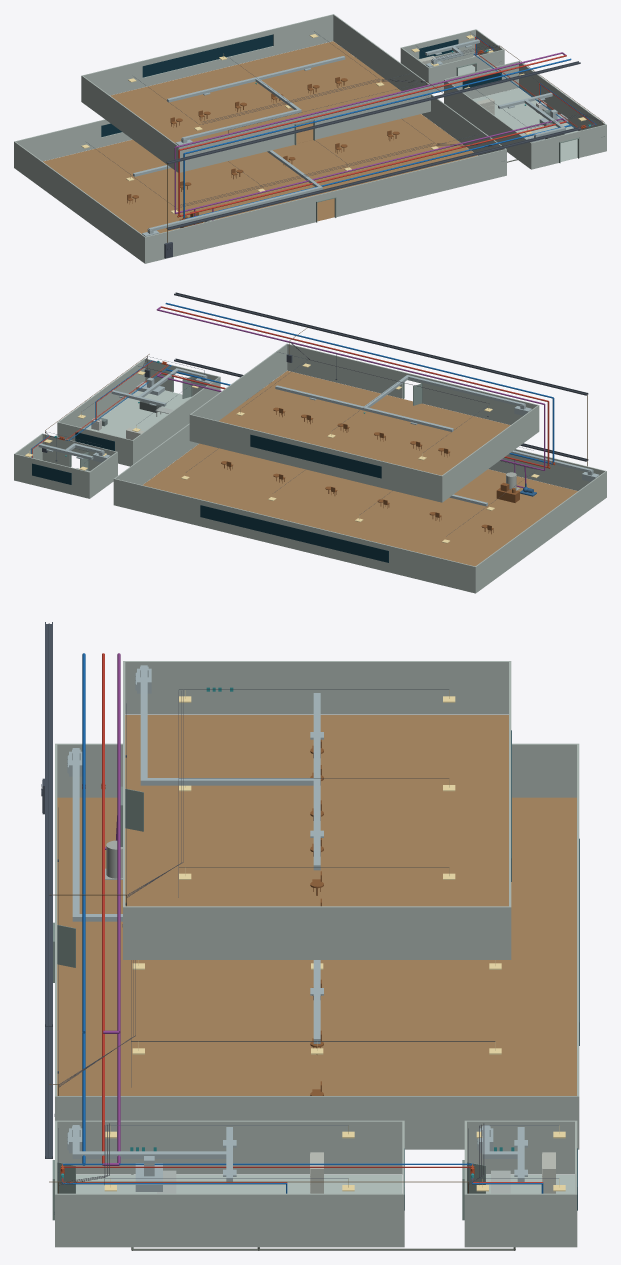
Rendered from DINING_W.glb.
3 views of the same model, one above another, from view 1: azimuth 30°, elevation 25°; view 2: azimuth 150°, elevation 25°; view 3: azimuth 270°, elevation 25° (orthographic). The views are drawn at different scales.
Parts seen in each view (by area): view 1: V4_DINING_W_R01_FLOOR_ZONE, V4_DINING_W_R01_WALLS, V4_DINING_W_R04_WALLS, V4_DINING_W_R04_FLOOR_ZONE, V4_DINING_W_R02_WALLS, V4_DINING_W_R03_WALLS, V4_DINING_W_R02_FLOOR_ZONE, V4_DINING_W_MAIN_HOT_RETURN, V4_DINING_W_MAIN_HOT, V4_DINING_W_R04_AHU, V4_DINING_W_MAIN_COLD, V4_DINING_W_TRAY1 (+5 smaller); view 2: V4_DINING_W_R01_FLOOR_ZONE, V4_DINING_W_R04_WALLS, V4_DINING_W_R01_WALLS, V4_DINING_W_R04_FLOOR_ZONE, V4_DINING_W_R02_WALLS, V4_DINING_W_R03_WALLS, V4_DINING_W_R01_ROOM_GLAZING, V4_DINING_W_R02_FLOOR_ZONE, V4_DINING_W_R04_AHU, V4_DINING_W_R04_ROOM_GLAZING, V4_DINING_W_TRAY1, V4_DINING_W_MAIN_COLD (+8 smaller); view 3: V4_DINING_W_R01_FLOOR_ZONE, V4_DINING_W_R04_FLOOR_ZONE, V4_DINING_W_R04_WALLS, V4_DINING_W_R02_WALLS, V4_DINING_W_R01_WALLS, V4_DINING_W_R03_WALLS, V4_DINING_W_R02_FLOOR_ZONE, V4_DINING_W_R04_AHU, V4_DINING_W_TRAY1, V4_DINING_W_R01_AHU, V4_DINING_W_MAIN_HOT_RETURN, V4_DINING_W_R02_AHU (+11 smaller).
Part boxes in pixels (x1,y1,x2,y2): V4_DINING_W_R01_FLOOR_ZONE: (43,114,477,233); V4_DINING_W_R01_WALLS: (14,59,506,263); V4_DINING_W_R04_WALLS: (81,14,430,172); V4_DINING_W_R04_FLOOR_ZONE: (110,41,401,143); V4_DINING_W_R02_WALLS: (444,61,606,169); V4_DINING_W_R03_WALLS: (400,29,504,92); V4_DINING_W_R02_FLOOR_ZONE: (473,88,577,161); V4_DINING_W_MAIN_HOT_RETURN: (174,52,566,213); V4_DINING_W_MAIN_HOT: (178,55,566,216); V4_DINING_W_R04_AHU: (167,56,345,145); V4_DINING_W_MAIN_COLD: (183,58,571,219); V4_DINING_W_TRAY1: (166,61,580,164); V4_DINING_W_R01_FLOOR_ZONE: (143,443,577,566); V4_DINING_W_R04_WALLS: (189,343,539,502); V4_DINING_W_R01_WALLS: (113,404,606,593); V4_DINING_W_R04_FLOOR_ZONE: (219,371,510,475); V4_DINING_W_R02_WALLS: (57,358,220,466); V4_DINING_W_R03_WALLS: (14,433,117,498); V4_DINING_W_R01_ROOM_GLAZING: (200,505,388,562); V4_DINING_W_R02_FLOOR_ZONE: (86,390,191,438); V4_DINING_W_R04_AHU: (275,375,531,431); V4_DINING_W_R04_ROOM_GLAZING: (250,434,381,478); V4_DINING_W_TRAY1: (174,292,588,395); V4_DINING_W_MAIN_COLD: (165,302,554,464); V4_DINING_W_R01_FLOOR_ZONE: (57,797,576,1095); V4_DINING_W_R04_FLOOR_ZONE: (125,715,508,906); V4_DINING_W_R04_WALLS: (123,661,511,959); V4_DINING_W_R02_WALLS: (55,1120,404,1247); V4_DINING_W_R01_WALLS: (55,743,579,1149); V4_DINING_W_R03_WALLS: (464,1120,577,1247); V4_DINING_W_R02_FLOOR_ZONE: (76,1174,401,1193); V4_DINING_W_R04_AHU: (135,665,323,870); V4_DINING_W_TRAY1: (45,622,52,1026); V4_DINING_W_R01_AHU: (67,748,323,1043); V4_DINING_W_MAIN_HOT_RETURN: (103,653,120,1165); V4_DINING_W_R02_AHU: (67,1125,236,1181).
Size of the model in its own units: 54.9 by 11.76 by 27.73.
